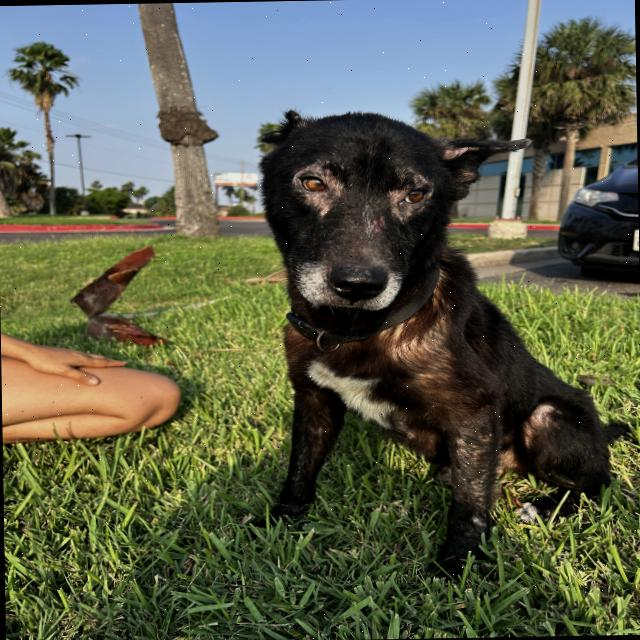labrador_retriever_dog: (205, 97, 554, 342)
